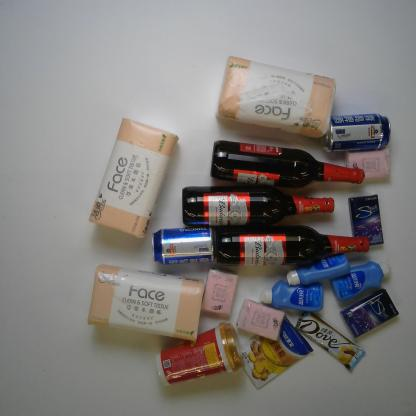Alcohol: (212, 134, 366, 196), (216, 225, 371, 268), (181, 185, 337, 227), (319, 112, 393, 152), (150, 226, 216, 267)
Chocolate: (296, 310, 376, 379)
Gum: (339, 287, 400, 339), (344, 190, 391, 250)
Instant Drink: (156, 321, 241, 390)
Personal Hygiene: (329, 258, 393, 305), (260, 279, 325, 313), (285, 257, 354, 286)
Seasoner: (227, 314, 318, 393)
Tissue: (87, 116, 181, 240), (216, 54, 338, 140), (86, 263, 207, 343), (236, 298, 287, 342), (200, 266, 239, 317), (341, 142, 393, 179)
